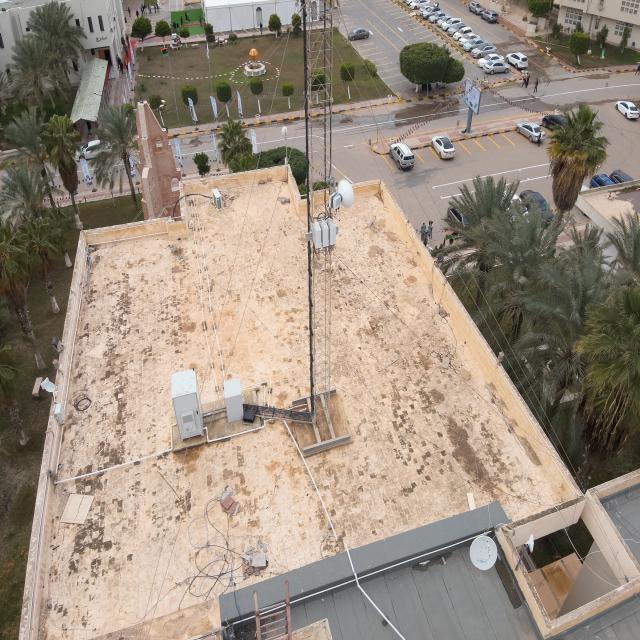microware-dish: (328, 177, 356, 214)
power-box: (308, 217, 338, 251)
